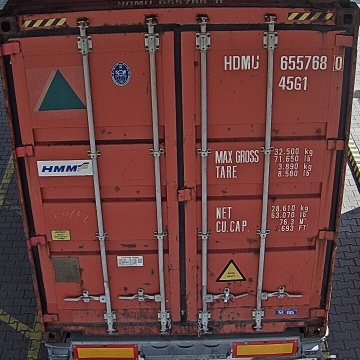serial_id: (224, 55, 343, 70)
